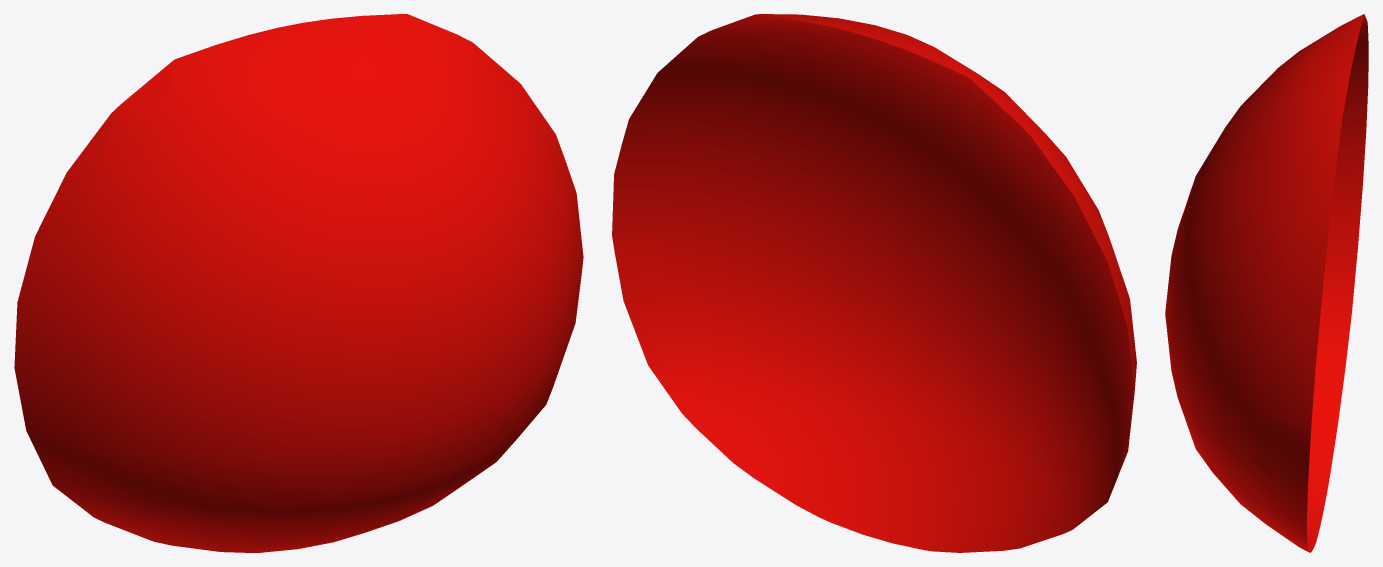
The model's file is Tomatocut3.fbx.
3 views of the same model, side by side, from view 1: azimuth 30°, elevation 25°; view 2: azimuth 150°, elevation 25°; view 3: azimuth 270°, elevation 25° (orthographic). The views are drawn at different scales.
Parts seen in each view (by area): view 1: Tomato; view 2: Tomato; view 3: Tomato.
Part boxes in pixels (x1=…): Tomato: x1=14, y1=14, x2=583, y2=552; Tomato: x1=612, y1=14, x2=1136, y2=552; Tomato: x1=1165, y1=14, x2=1368, y2=552.
Bounding box in the file's own units: 464 × 416 × 166.
